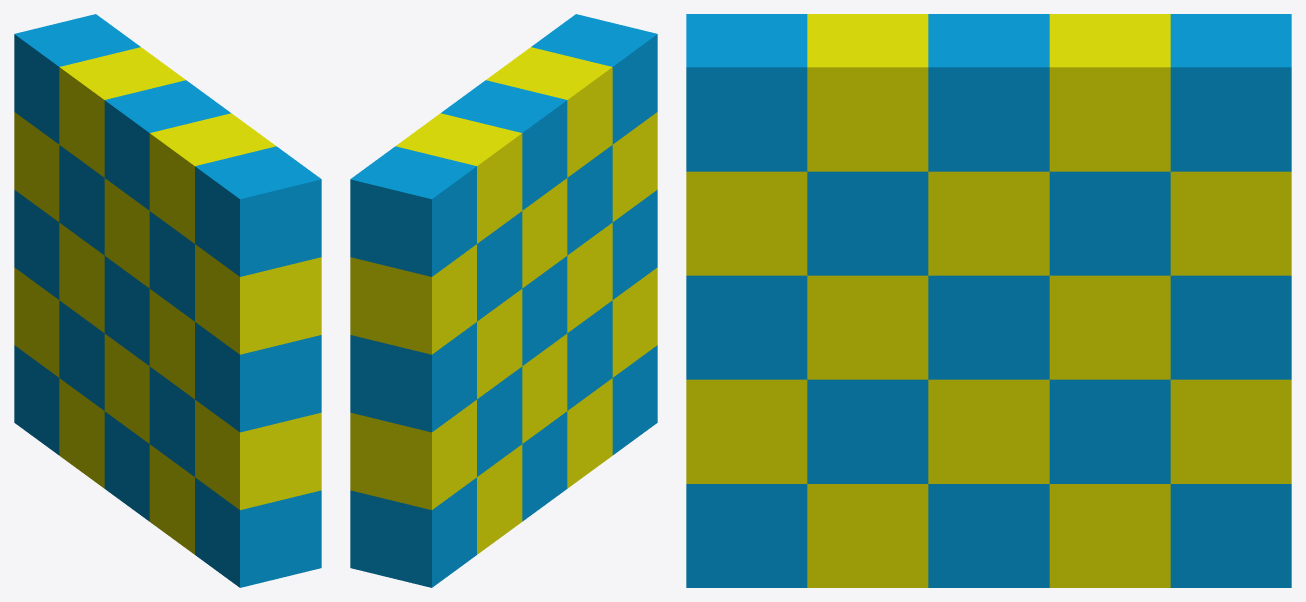
Rendered from SharpBoxes.fbx.
The picture shows the model from 3 angles, left to right: view 1: azimuth 30°, elevation 25°; view 2: azimuth 150°, elevation 25°; view 3: azimuth 270°, elevation 25°; orthographic projection. The views are drawn at different scales.
Visible parts, largest first — view 1: pCube2, pCube8, pCube9, pCube10, pCube7, pCube3, pCube5, pCube4, pCube6, pCube11, pCube13, pCube18 (+13 smaller); view 2: pCube6, pCube15, pCube16, pCube14, pCube17, pCube3, pCube5, pCube2, pCube4, pCube11, pCube13, pCube18 (+13 smaller); view 3: pCube2, pCube3, pCube4, pCube5, pCube6, pCube19, pCube23, pCube26, pCube7, pCube8, pCube9, pCube15 (+13 smaller).
Boxes of the visible parts, x1,y1,x2,y2 form: pCube2: [195, 146, 321, 276]; pCube8: [195, 322, 321, 432]; pCube9: [195, 400, 321, 509]; pCube10: [195, 477, 321, 587]; pCube7: [195, 244, 321, 354]; pCube3: [149, 113, 275, 243]; pCube5: [59, 47, 185, 177]; pCube4: [104, 80, 230, 210]; pCube6: [14, 14, 140, 144]; pCube11: [149, 444, 194, 554]; pCube13: [59, 378, 104, 488]; pCube18: [59, 145, 104, 255]; pCube6: [350, 146, 476, 276]; pCube15: [350, 400, 476, 509]; pCube16: [350, 322, 476, 432]; pCube14: [350, 477, 476, 587]; pCube17: [350, 244, 476, 354]; pCube3: [486, 47, 612, 177]; pCube5: [396, 113, 522, 243]; pCube2: [531, 14, 657, 144]; pCube4: [441, 80, 567, 210]; pCube11: [567, 378, 612, 488]; pCube13: [477, 444, 522, 554]; pCube18: [477, 211, 522, 321]; pCube2: [686, 14, 807, 171]; pCube3: [807, 14, 928, 171]; pCube4: [928, 14, 1049, 171]; pCube5: [1049, 14, 1170, 171]; pCube6: [1170, 14, 1291, 171]; pCube19: [928, 171, 1049, 275]; pCube23: [928, 379, 1049, 483]; pCube26: [928, 275, 1049, 379]; pCube7: [686, 171, 807, 275]; pCube8: [686, 275, 807, 379]; pCube9: [686, 379, 807, 483]; pCube15: [1170, 379, 1291, 483].
Size of the model in its own units: 1.69 by 7.67 by 8.08.
